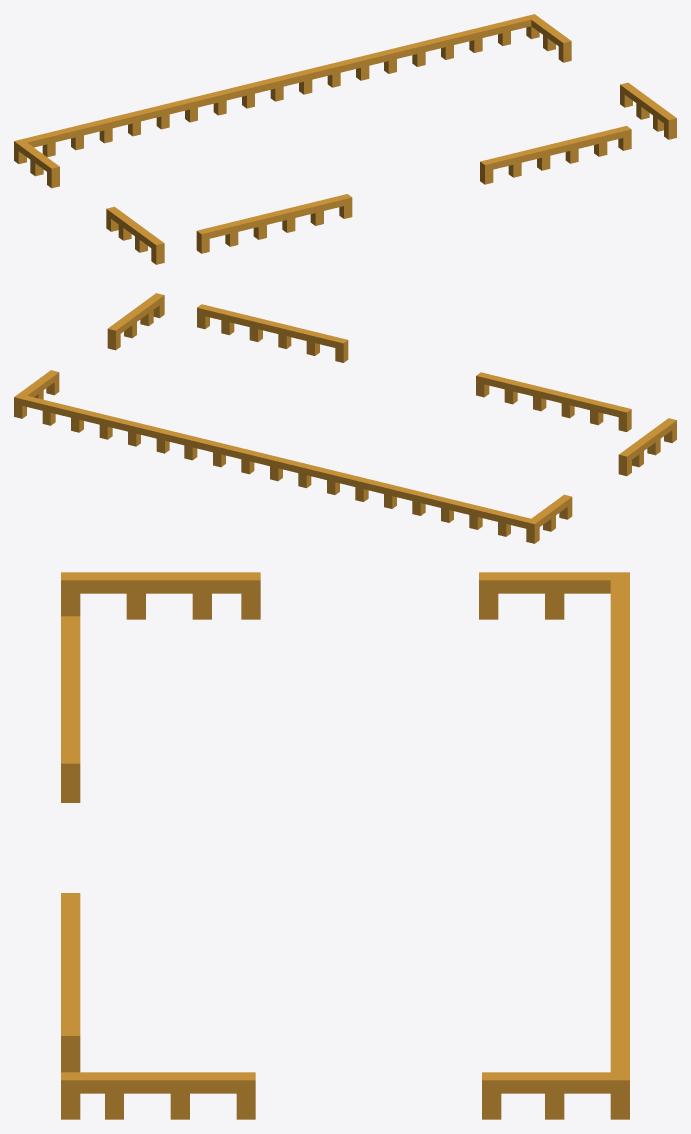
File: StageGuards.fbx
3 views of the same model, one above another, from view 1: azimuth 30°, elevation 25°; view 2: azimuth 150°, elevation 25°; view 3: azimuth 270°, elevation 25° (orthographic). The views are drawn at different scales.
Visible parts, largest first — view 1: StageGaurds; view 2: StageGaurds; view 3: StageGaurds.
Boxes of the visible parts, x1,y1,x2,y2 form: StageGaurds: (14, 14, 676, 264); StageGaurds: (14, 293, 676, 543); StageGaurds: (61, 572, 629, 1119).
Bounding box in the file's own units: 62.64 × 2.26 × 29.64.
